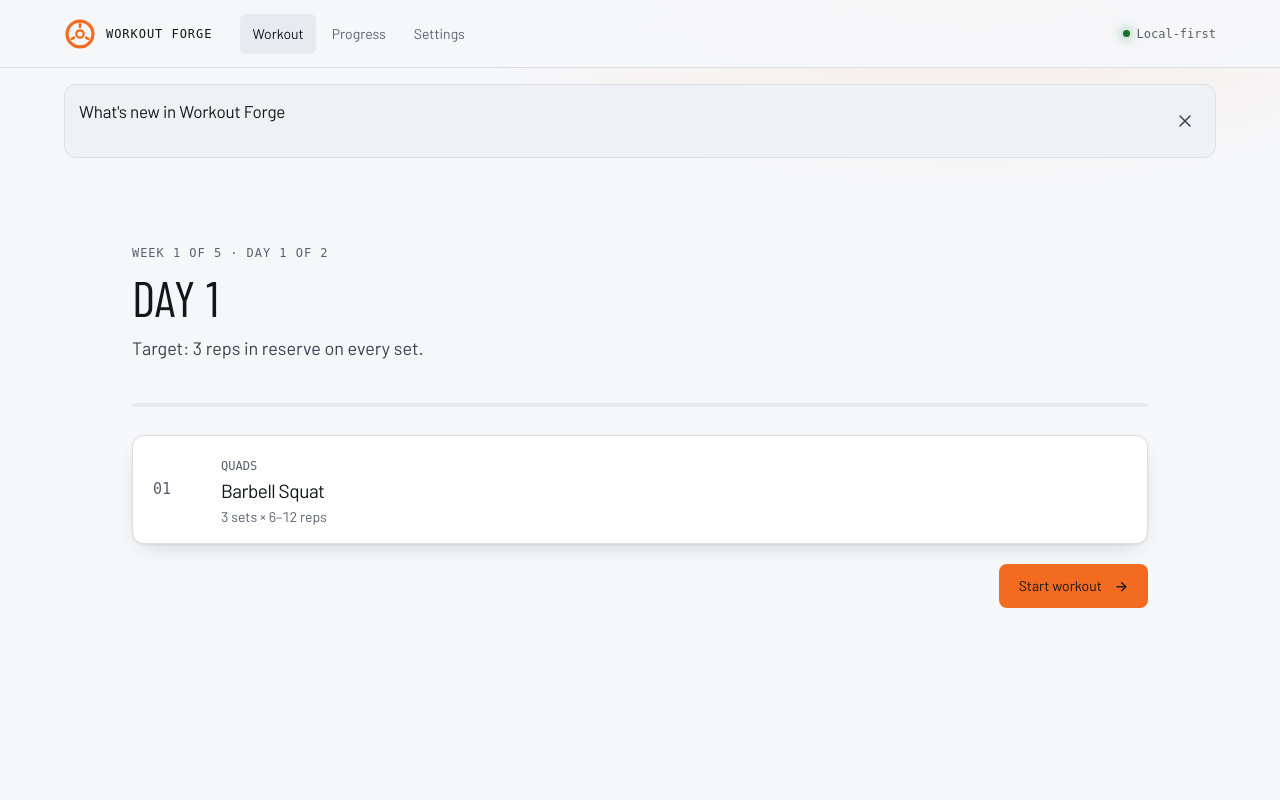
Test: warm-up hint in the session › hides once any set of the exercise is checked off, and returns if it is undone
Later steps or results of the test are not shown.
Click the button "Start workout →".
click(1073, 586)  # box [999,564,1148,608]
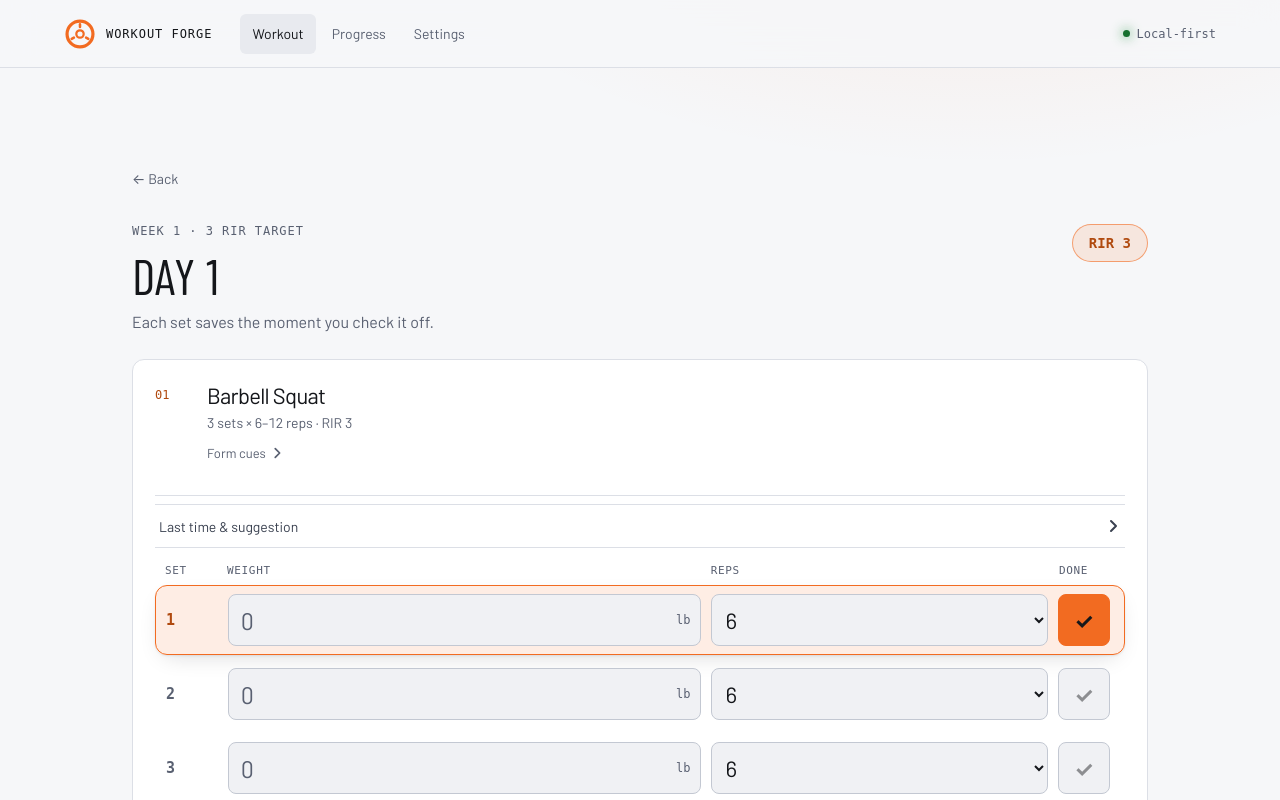
Type "135" into the field named "Set 1 weight".
click(464, 620); type("135")  # box [228,594,700,646]
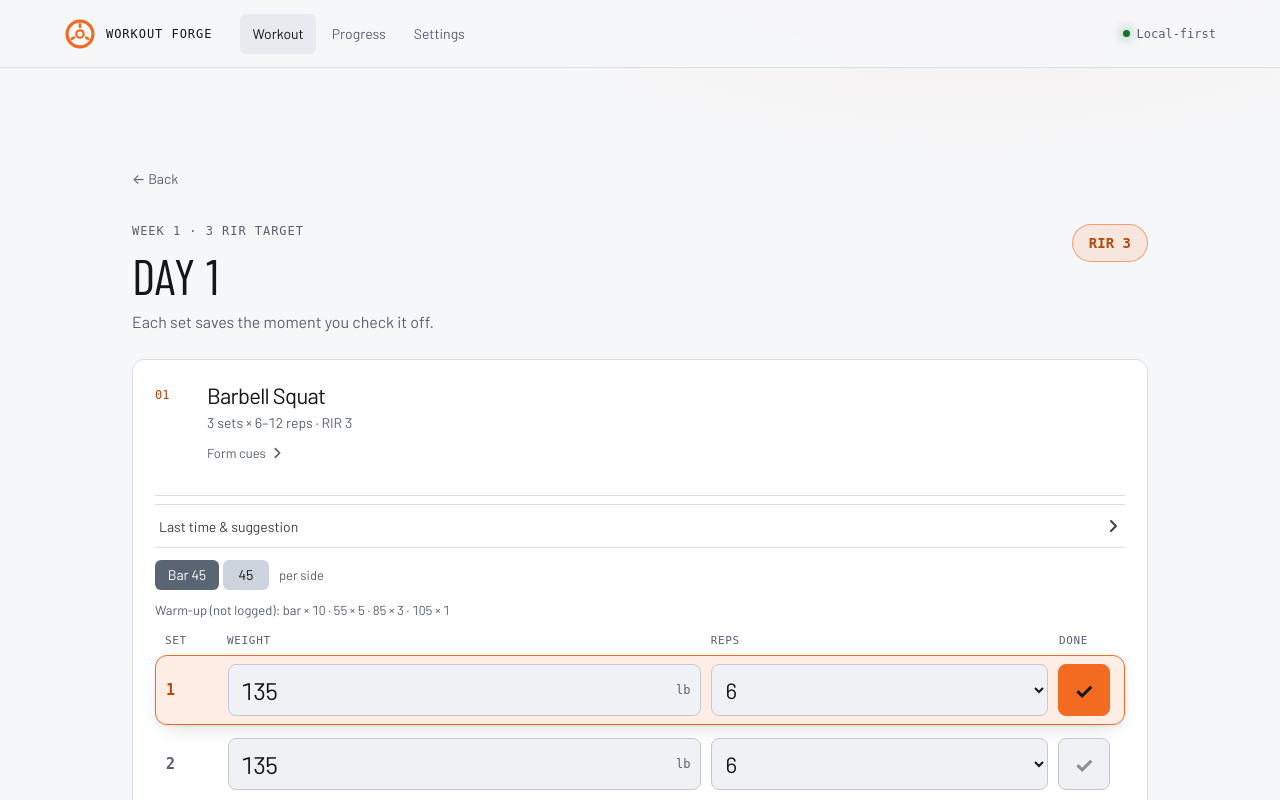
Click the button named "Complete set 1".
click(1084, 690)  # box [1058,664,1110,716]
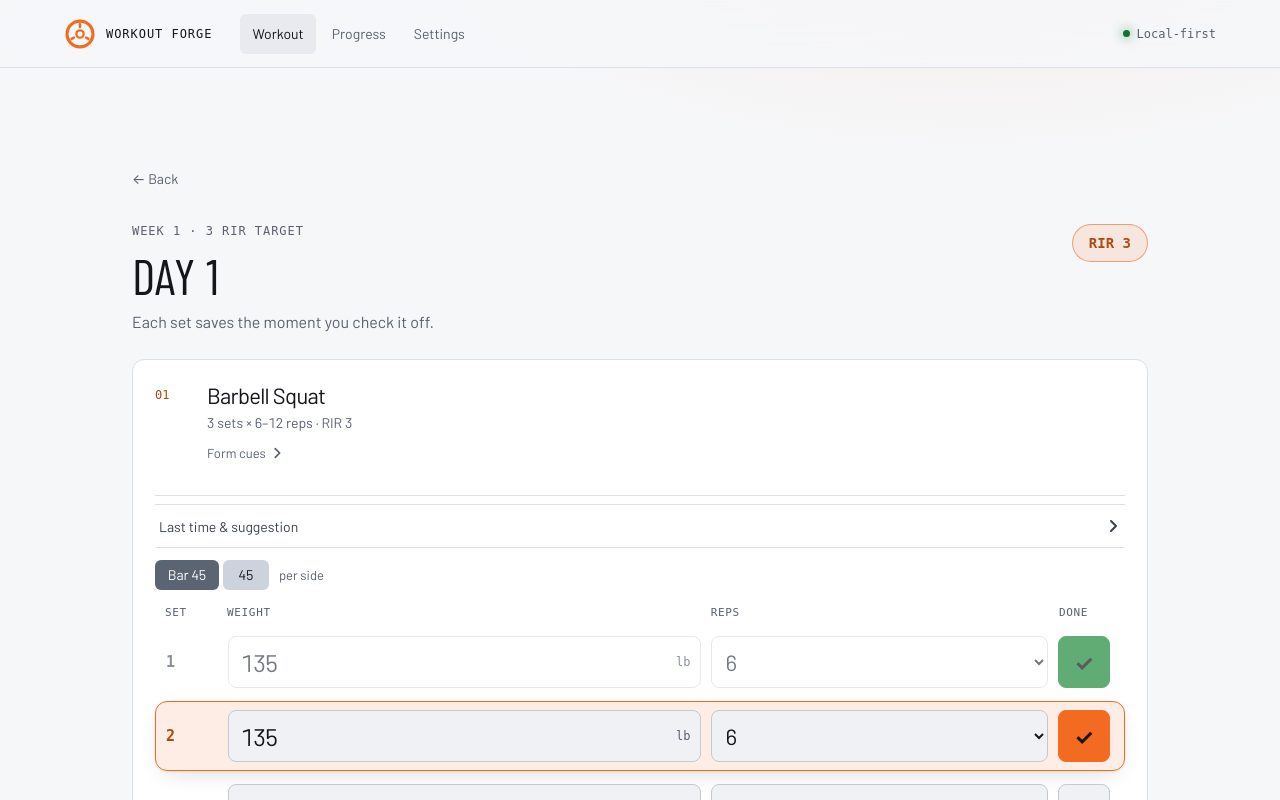
Now the text with class "warmup-hint" is gone
